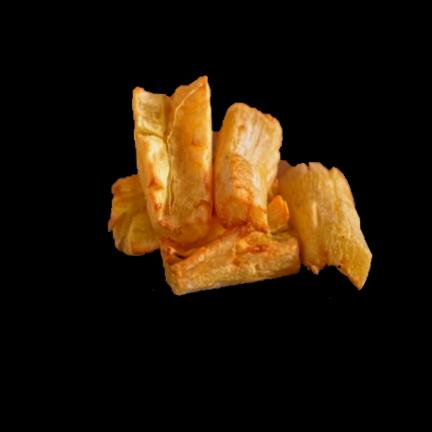cassava: (110, 78, 372, 294)
